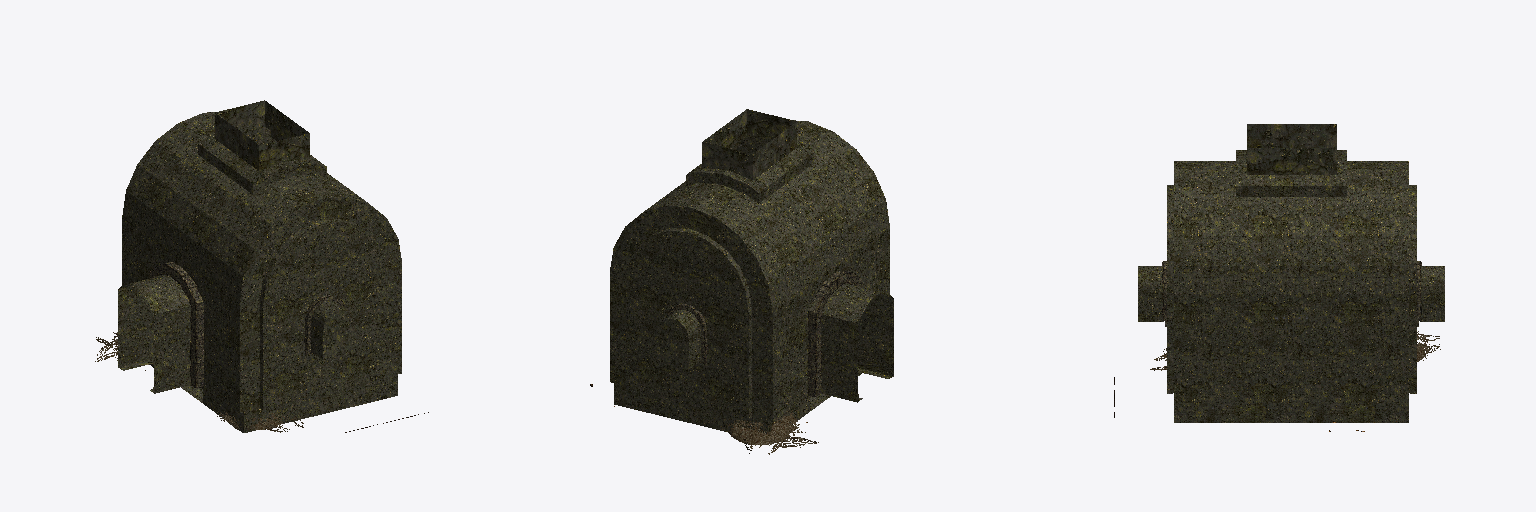
The picture shows the model from 3 angles: view 1: azimuth 30°, elevation 25°; view 2: azimuth 150°, elevation 25°; view 3: azimuth 270°, elevation 25°; orthographic projection.
Visible parts, largest first — view 1: mesh4, mesh0, mesh2, mesh13, mesh11; view 2: mesh4, mesh0, mesh2, mesh11, mesh13; view 3: mesh4, mesh0, mesh2.
Boxes of the visible parts, x1,y1,x2,y2 form: mesh4: [118, 112, 385, 412]; mesh0: [149, 100, 401, 432]; mesh2: [149, 262, 344, 387]; mesh13: [119, 134, 274, 392]; mesh11: [95, 332, 303, 432]; mesh4: [626, 120, 893, 420]; mesh0: [610, 109, 861, 433]; mesh2: [666, 270, 861, 396]; mesh11: [728, 410, 818, 454]; mesh13: [737, 142, 892, 401]; mesh4: [1138, 161, 1444, 402]; mesh0: [1167, 124, 1416, 422]; mesh2: [1162, 261, 1421, 326].
Bounding box in the file's own units: 5.6 × 5.91 × 7.06.
14 materials, 10 textured.